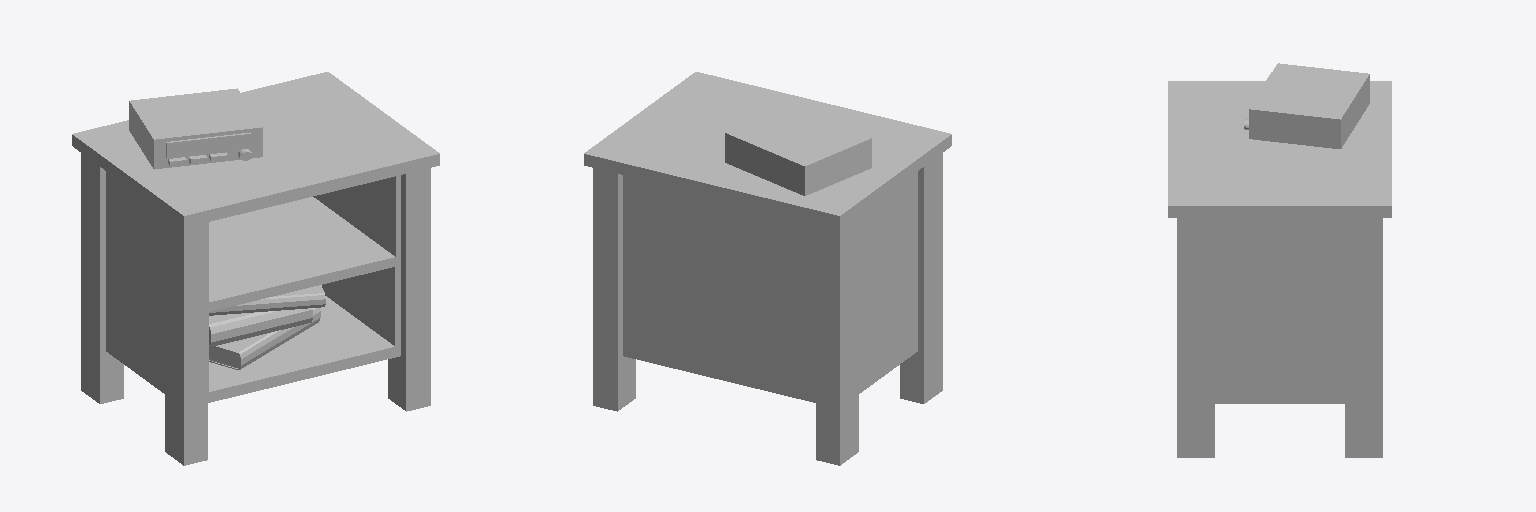
The model's file is Mesa.obj.
The picture shows the model from 3 angles: view 1: azimuth 30°, elevation 25°; view 2: azimuth 150°, elevation 25°; view 3: azimuth 270°, elevation 25°; orthographic projection.
Visible parts, largest first — view 1: pCube18, pCube6, Mesa:Books_LOD0Book179, Mesa:Books_LOD0Book172, Mesa:Books_LOD0Book174; view 2: pCube18, pCube6; view 3: pCube18, pCube6.
Part boxes in pixels (bbox=[...]): pCube18: bbox=[72, 72, 439, 465]; pCube6: bbox=[129, 88, 262, 169]; Mesa:Books_LOD0Book179: bbox=[209, 308, 312, 346]; Mesa:Books_LOD0Book172: bbox=[209, 308, 320, 369]; Mesa:Books_LOD0Book174: bbox=[209, 285, 325, 315]; pCube18: bbox=[584, 72, 951, 465]; pCube6: bbox=[725, 105, 871, 195]; pCube18: bbox=[1168, 81, 1391, 457]; pCube6: bbox=[1244, 63, 1369, 148].
Bounding box in the file's own units: 1.54 × 1.64 × 1.17.